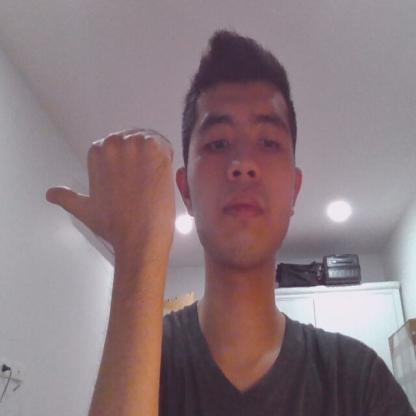right: (45, 128, 180, 258)
